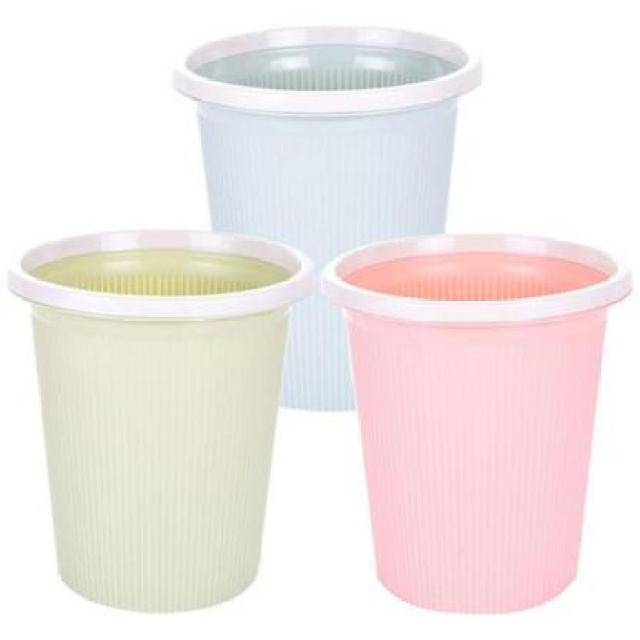dustbin: (166, 17, 489, 418), (3, 222, 320, 619), (317, 228, 638, 620)
